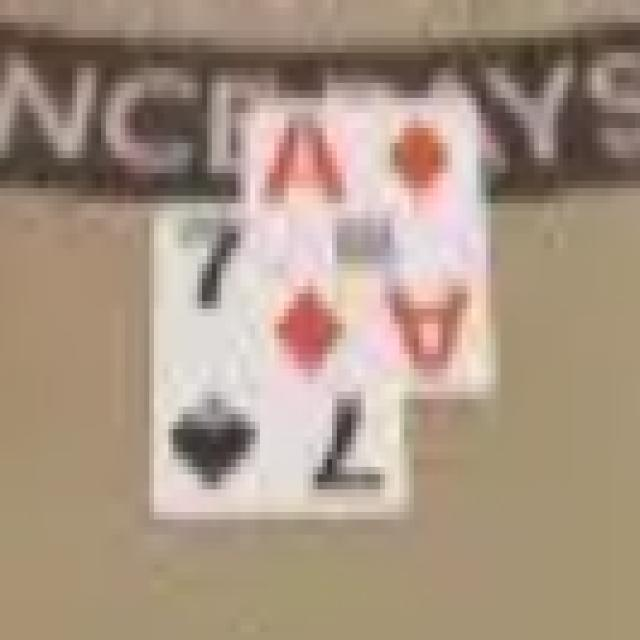Card-7: (151, 208, 405, 521)
Card-A: (252, 104, 492, 395)
